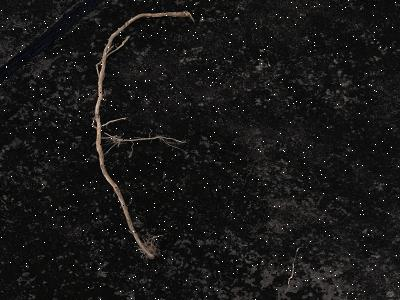Root: (93, 11, 194, 258), (108, 135, 184, 144)
